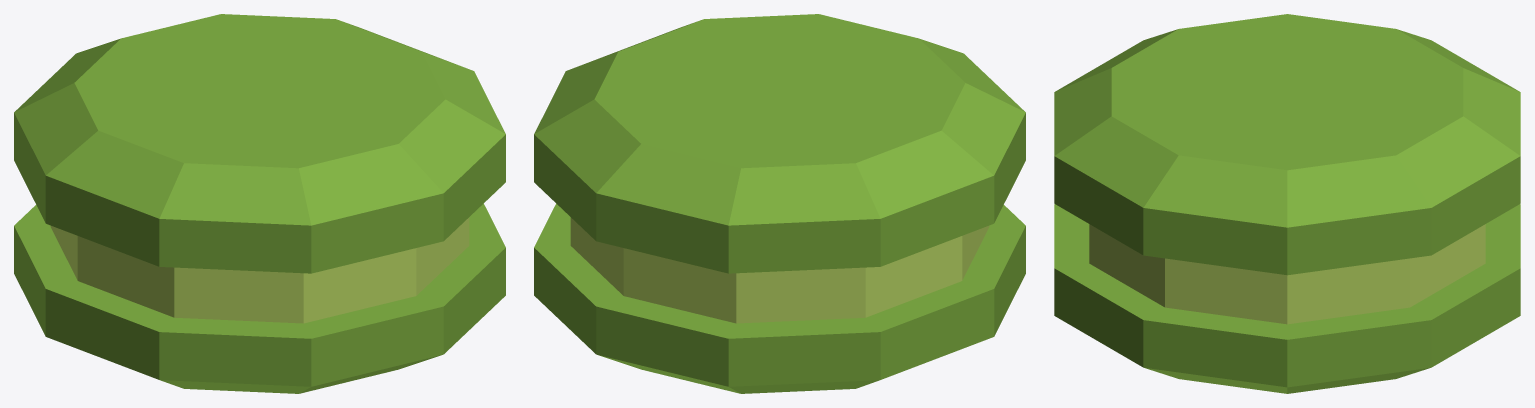
File: macaron03.fbx
The picture shows the model from 3 angles, left to right: view 1: azimuth 30°, elevation 25°; view 2: azimuth 150°, elevation 25°; view 3: azimuth 270°, elevation 25°; orthographic projection.
Visible parts, largest first — view 1: macaron03; view 2: macaron03; view 3: macaron03.
Part boxes in pixels (x1,y1,x2,y2): macaron03: [14, 14, 505, 393]; macaron03: [534, 14, 1025, 393]; macaron03: [1054, 14, 1520, 393].
Bounding box in the file's own units: 80.55 × 40.56 × 76.61.
Materials: 1 (1 with a texture image).
